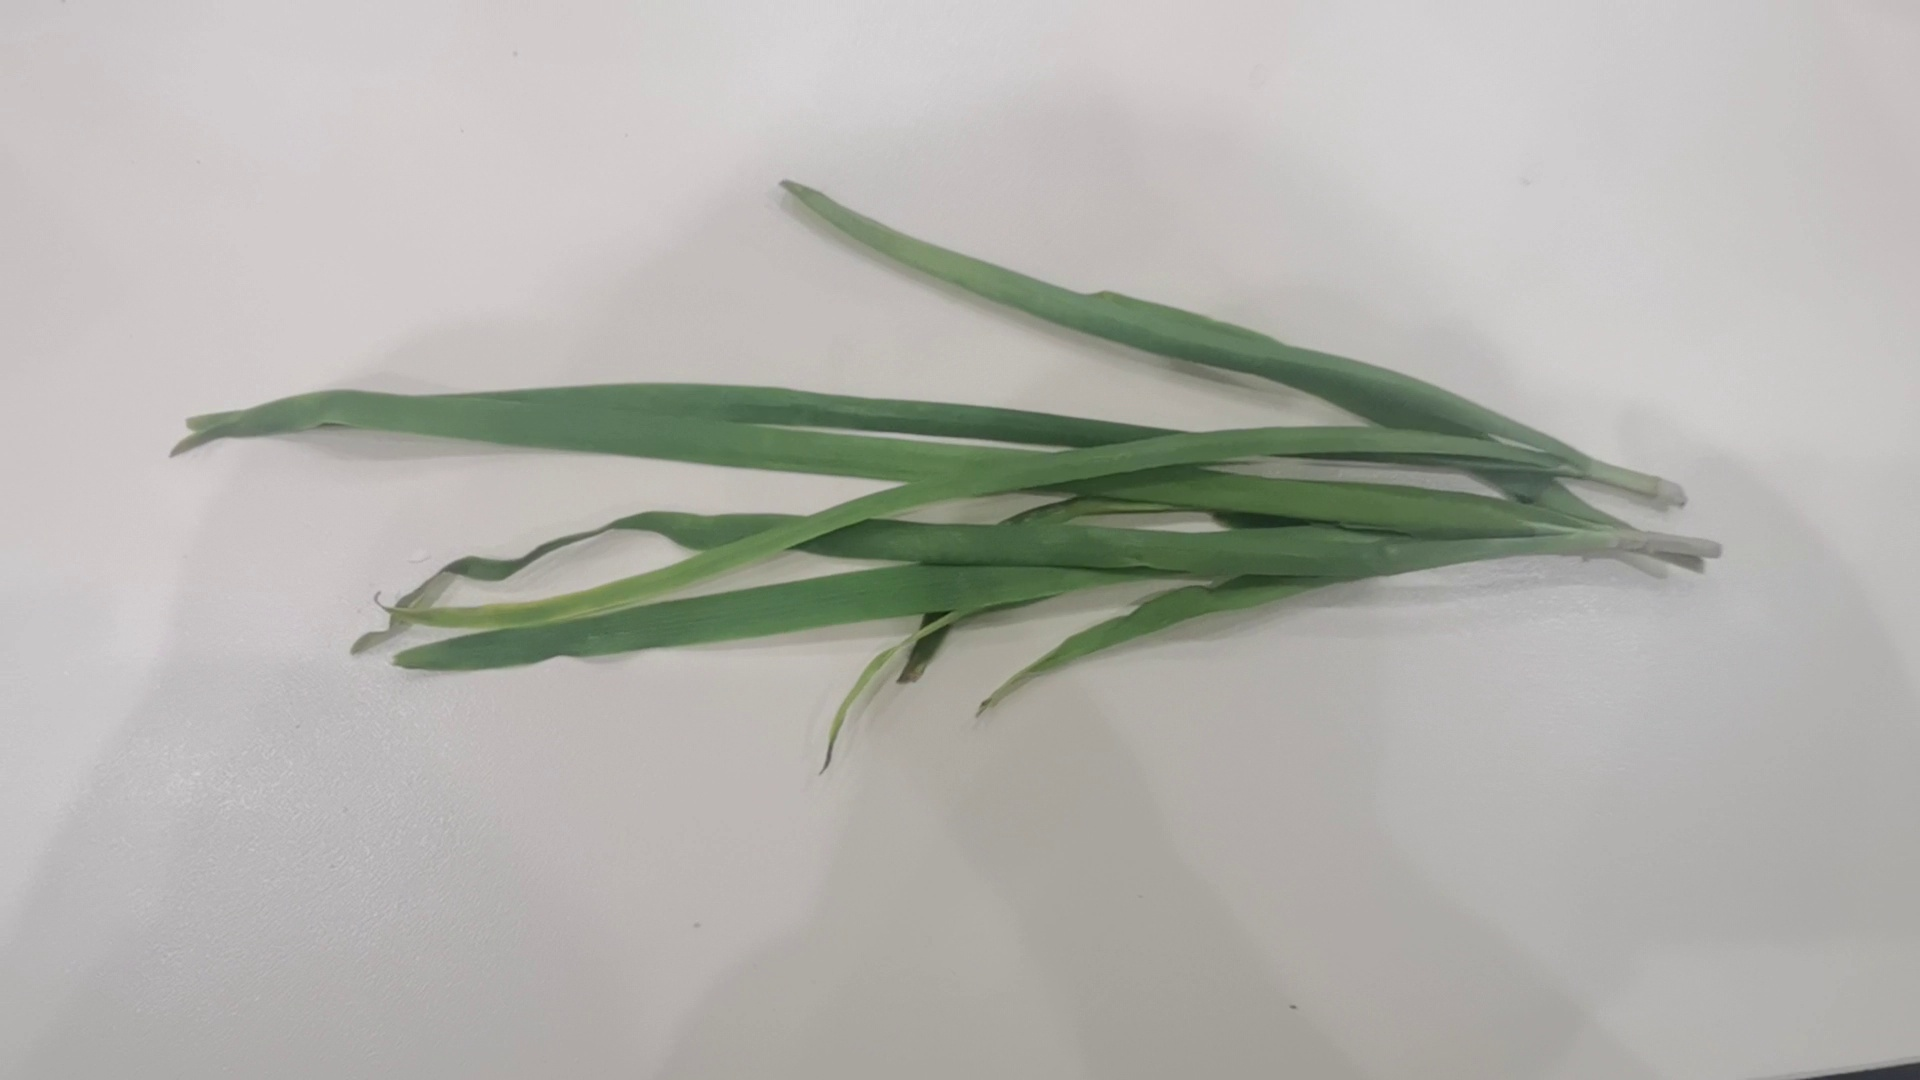chives: (154, 148, 1729, 754)
